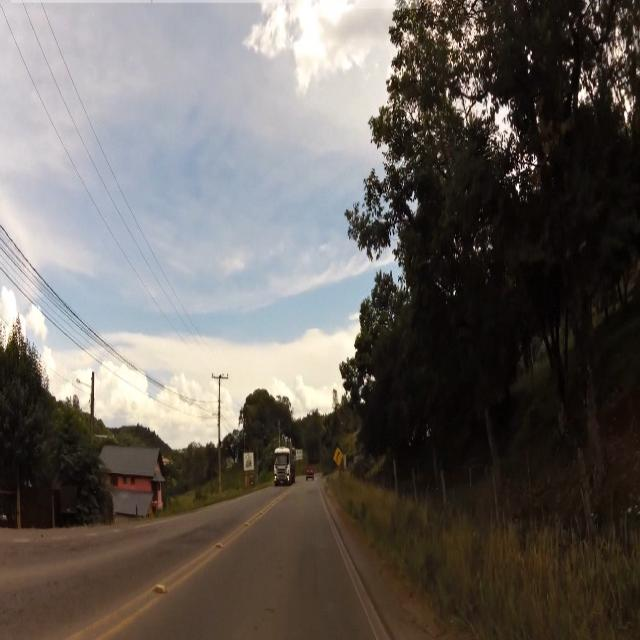A-2b: (330, 444, 346, 464)
